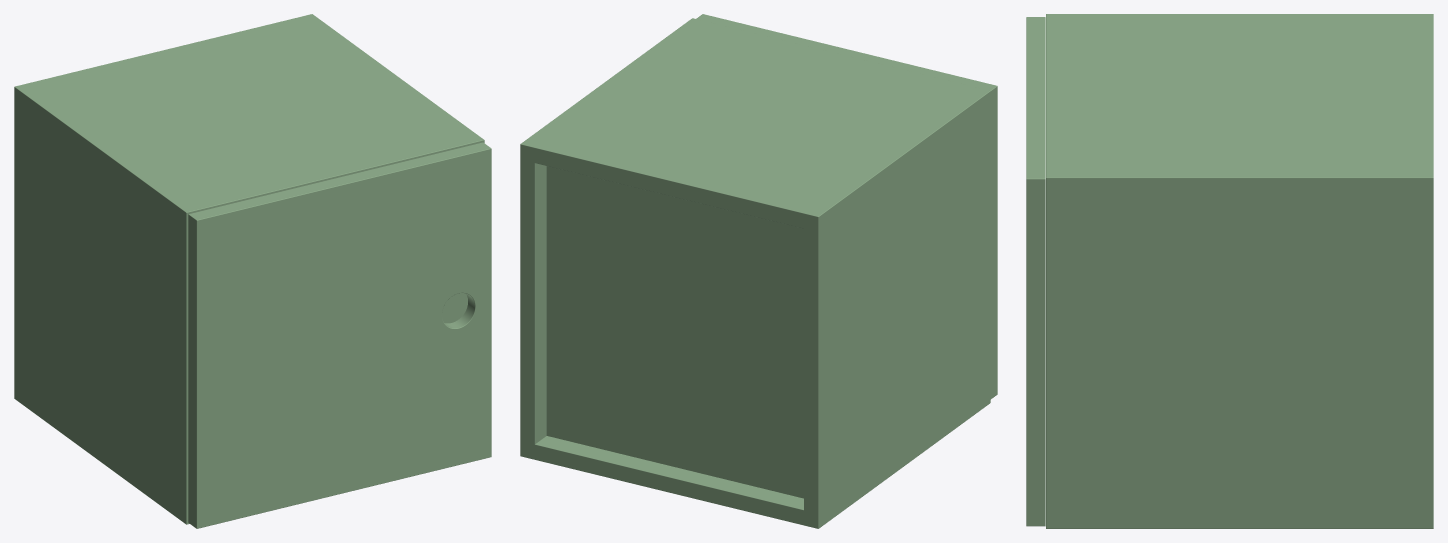
File: MOD-1X1-D-B-DER-SA.glb
The picture shows the model from 3 angles, left to right: view 1: azimuth 30°, elevation 25°; view 2: azimuth 150°, elevation 25°; view 3: azimuth 270°, elevation 25°; orthographic projection. The views are drawn at different scales.
Bounding box in the file's own units: 360 × 360 × 378.
